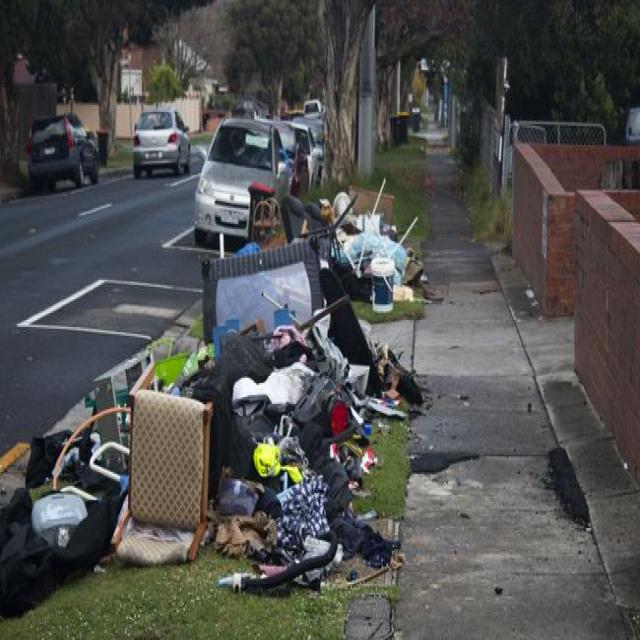dumping: (190, 185, 375, 600), (0, 340, 182, 592)
